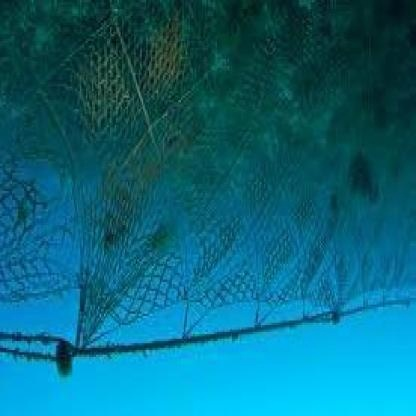net: (15, 2, 413, 350)
